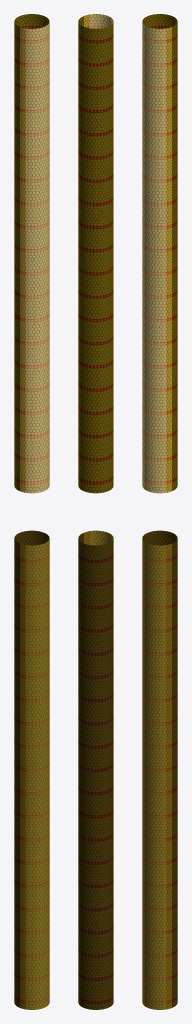
The model's file is ExtensionShaded.obj.
3 views of the same model, side by side, from view 1: azimuth 30°, elevation 25°; view 2: azimuth 150°, elevation 25°; view 3: azimuth 330°, elevation 25° (orthographic).
Bounding box in the file's own units: 1095 × 33800 × 1095.
6 materials, 6 textured.
